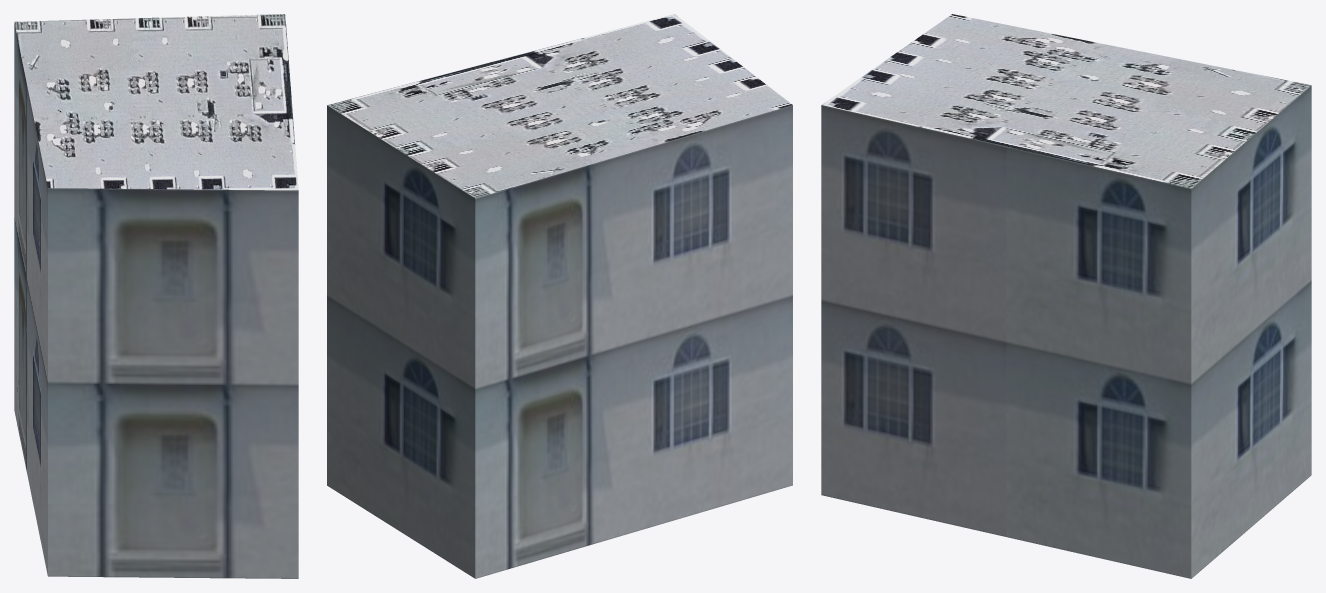
File: ResTex__3048.fbx
3 renders of one model, left to right at view 1: azimuth 30°, elevation 25°; view 2: azimuth 150°, elevation 25°; view 3: azimuth 270°, elevation 25°, orthographic. The views are drawn at different scales.
Visible parts, largest first — view 1: CityEngineMaterial_17_m, CityEngineMaterial_m; view 2: CityEngineMaterial_17_m, CityEngineMaterial_m; view 3: CityEngineMaterial_17_m, CityEngineMaterial_m.
Boxes of the visible parts, x1,y1,x2,y2 form: CityEngineMaterial_17_m: (14, 23, 298, 578); CityEngineMaterial_m: (14, 14, 298, 190); CityEngineMaterial_17_m: (327, 105, 792, 578); CityEngineMaterial_m: (327, 14, 792, 198); CityEngineMaterial_17_m: (821, 85, 1311, 578); CityEngineMaterial_m: (822, 14, 1310, 188).
Size of the model in its own units: 5.76 by 6 by 6.83.
Materials: 2 (2 with a texture image).
